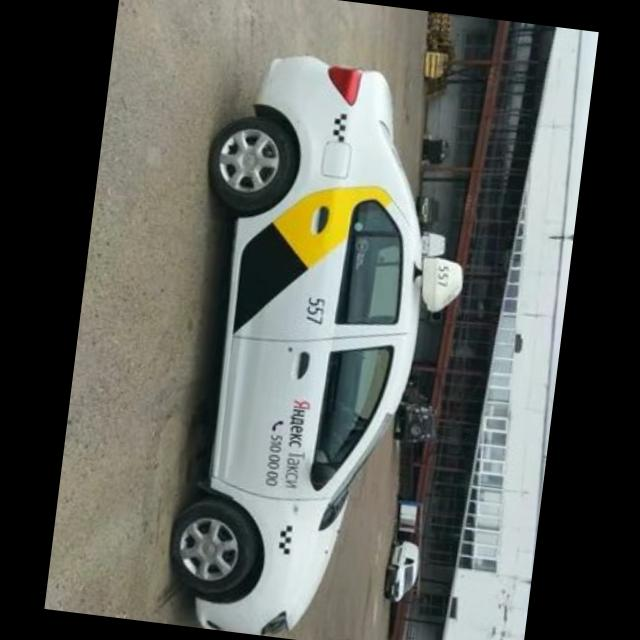taxi: (152, 45, 490, 640)
